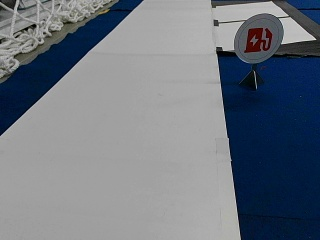battery: (234, 12, 282, 63)
